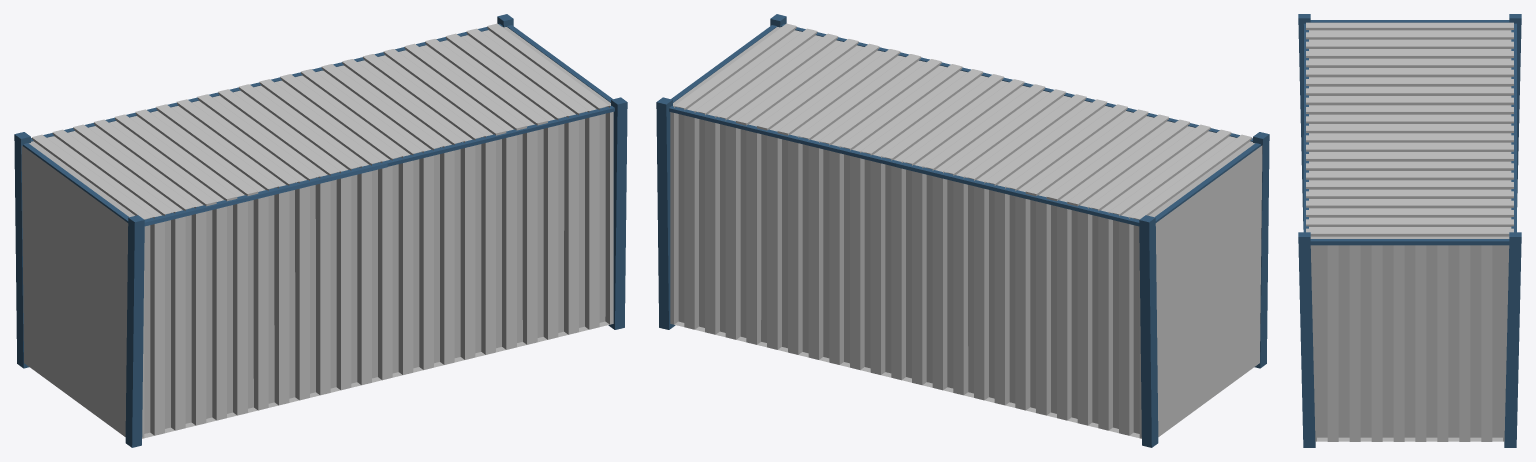
Rendered from edap-container-20ft-var_LOD00.gltf.
The picture shows the model from 3 angles, left to right: view 1: azimuth 30°, elevation 25°; view 2: azimuth 150°, elevation 25°; view 3: azimuth 270°, elevation 25°; orthographic projection. The views are drawn at different scales.
Parts seen in each view (by area): view 1: container, long side rust.002, container roof grime, container door, corners, long rims.001, short rims; view 2: container, long side rust.001, container roof grime, container door, corners, long rims.001, short rims; view 3: container, container roof grime, short side rust, corners, short rims, long rims.001.
Boxes of the visible parts, x1,y1,x2,y2 form: container: (29,23,610,438); long side rust.002: (142,112,613,438); container roof grime: (32,23,608,219); container door: (21,145,128,436); corners: (14,14,627,447); long rims.001: (31,23,614,226); short rims: (23,25,612,222); container: (673,23,1254,438); long side rust.001: (670,112,1141,438); container roof grime: (675,23,1251,219); container door: (1155,145,1262,436); corners: (656,14,1269,447); long rims.001: (669,24,1252,226); short rims: (671,25,1260,222); container: (1306,27,1513,441); container roof grime: (1306,22,1513,233); short side rust: (1327,245,1492,441); corners: (1298,14,1521,447); short rims: (1310,20,1509,245); long rims.001: (1303,23,1516,232).
Bounding box in the file's own units: 6.18 × 2.73 × 2.62.
